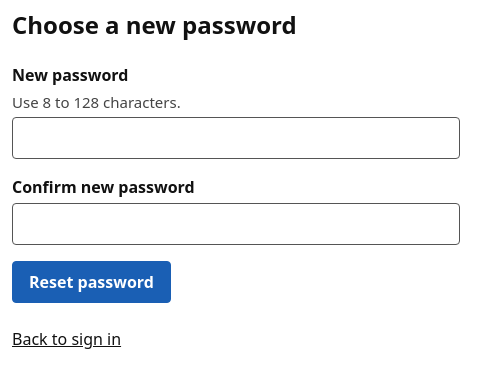
Test: ResetPasswordPage — choosing a new password needs the server › recovery submits nothing; an explicit submit then gets the existing invalid-token outcome (token forgotten)
The image size is (482, 366).
Type "a synthetic new password" into the password field labelled "New password".
click(236, 138); type("a synthetic new password")  # box [12,117,460,159]
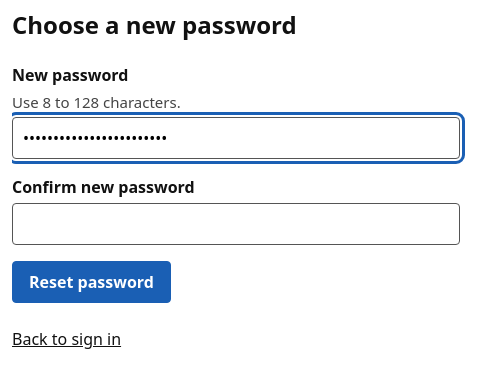
Type "a synthetic new password" into the password field labelled "Confirm new password".
click(236, 224); type("a synthetic new password")  # box [12,203,460,245]
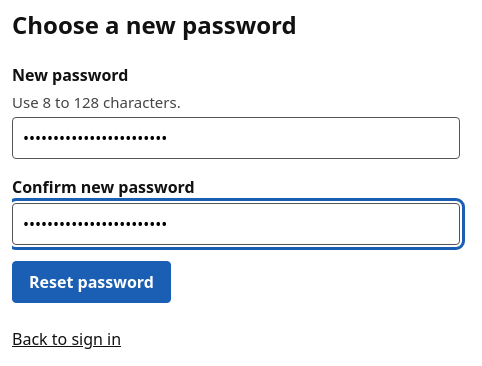
Click the button "Reset password".
click(91, 282)  # box [12,261,171,303]
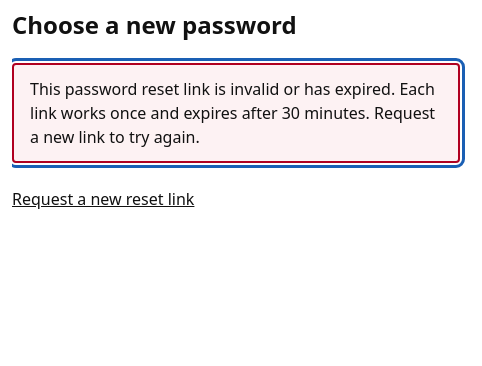
Expected: the message shows "This password reset link is invalid or has expired. Each link works once and expires after 30 minutes. Request a new link to try again.", [30,78,435,148]
